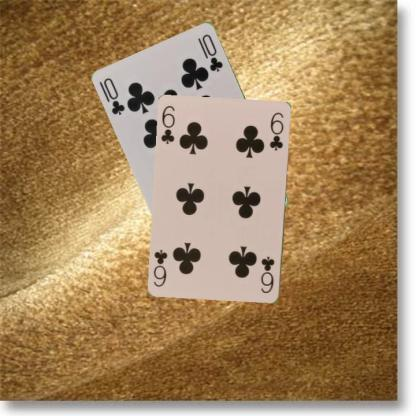10c: (101, 75, 127, 117)
6c: (158, 104, 176, 146), (258, 254, 276, 294)
